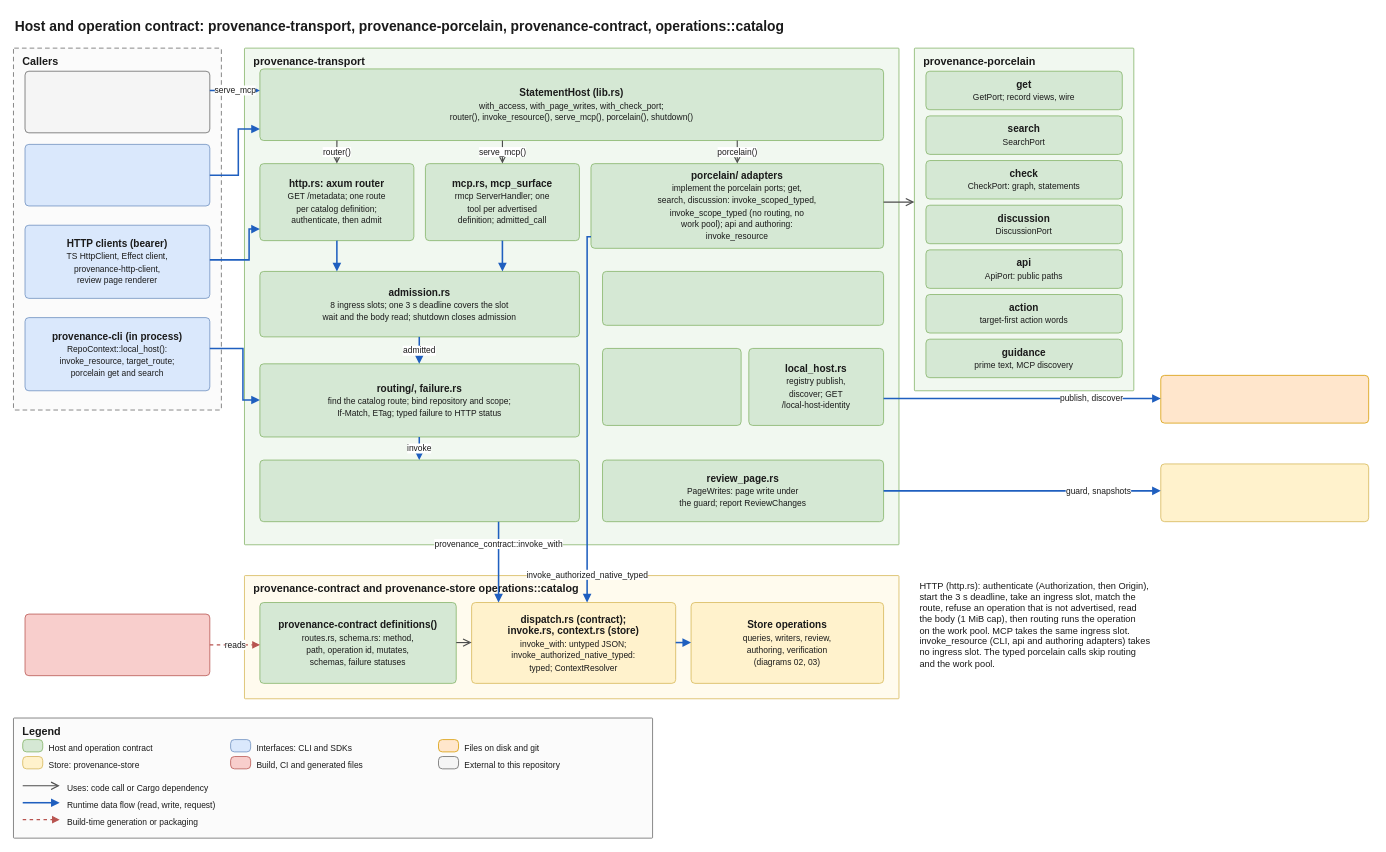
Image size: 1386x852. Some labels were removed from this diagram. Each missing label, with the centre of its shape:
.provenance/cache/local-hosts/ <scope>.json, owner-only: (x=1264, y=399)
access.rs, local.rs HostAccess trait; LocalAccess: bearer, Host, Origin, scope: (x=671, y=386)
execution.rs invoke: 8 work slots, spawn_blocking; shutdown waits for the work: (x=419, y=490)
fixture/, bin/ test-fixture feature: fixture hosts for clients: (x=743, y=298)
MCP client serve_mcp on a caller stream; tests only, no CLI command: (x=117, y=101)
provenance-codegen export: openapi.json, mcp.json, compatibility.json: (x=117, y=644)
provenance-store publication with_publication_guard, review_changes snapshot: (x=1264, y=492)
Review host (CLI) host.router() plus review routes; with_page_writes: (x=117, y=175)
